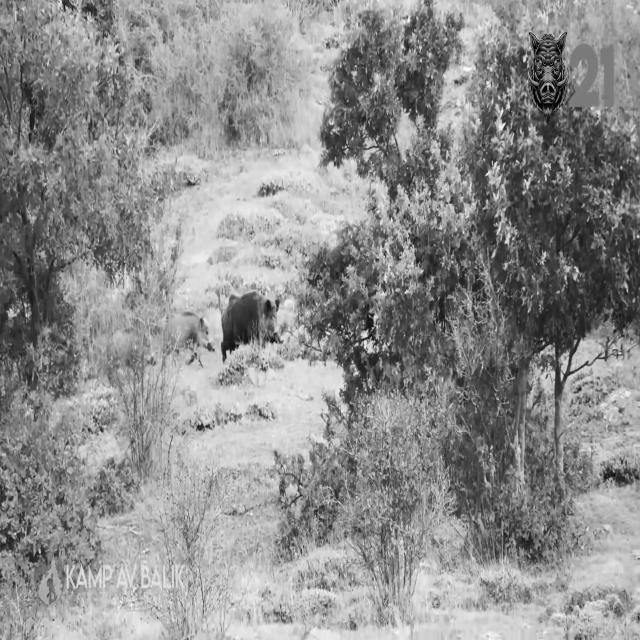boar: (221, 290, 280, 360), (162, 311, 214, 366)
